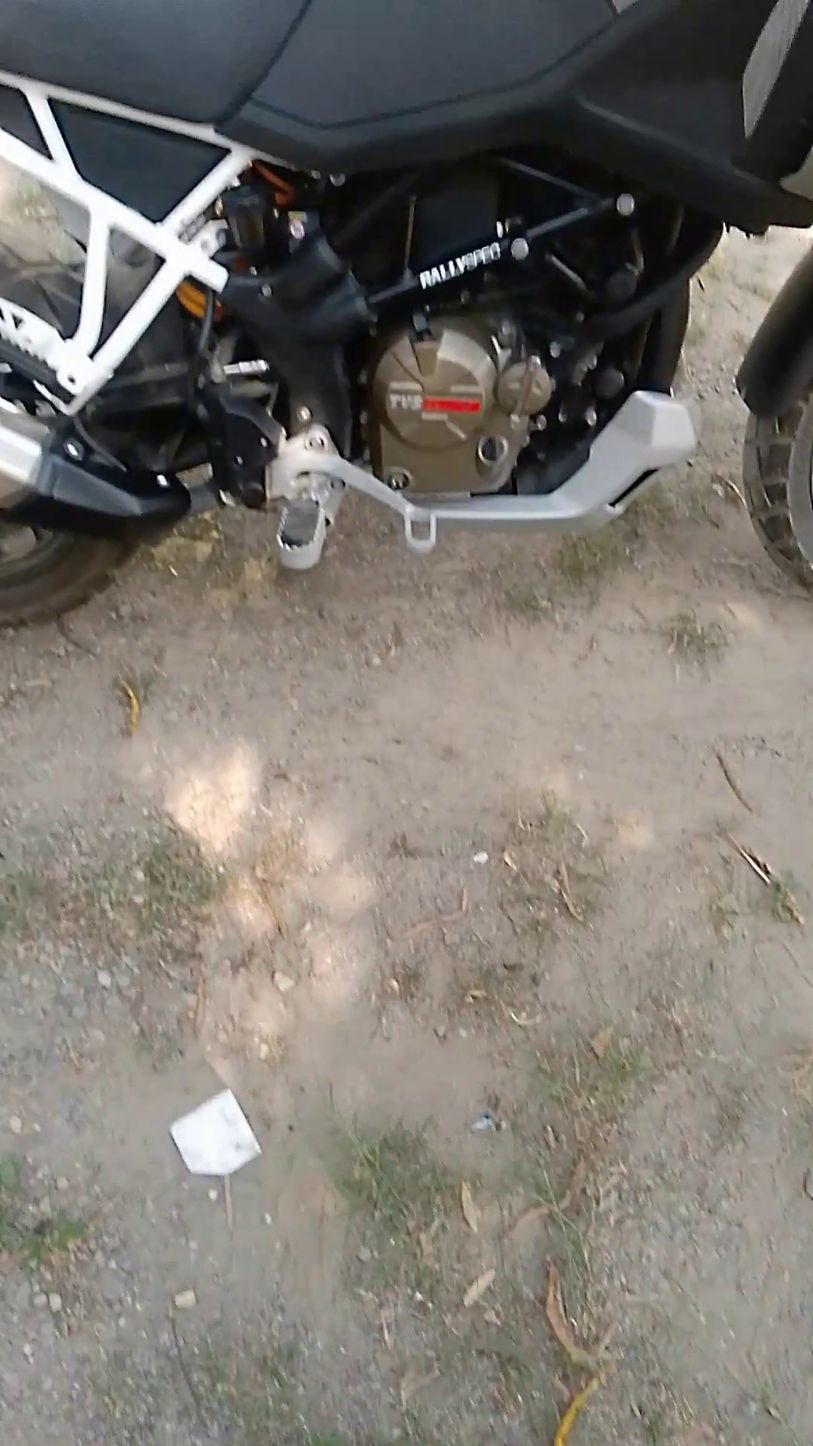engine: (345, 252, 582, 524)
oil_cap: (473, 426, 513, 471)
oil_marker: (376, 461, 428, 499)
